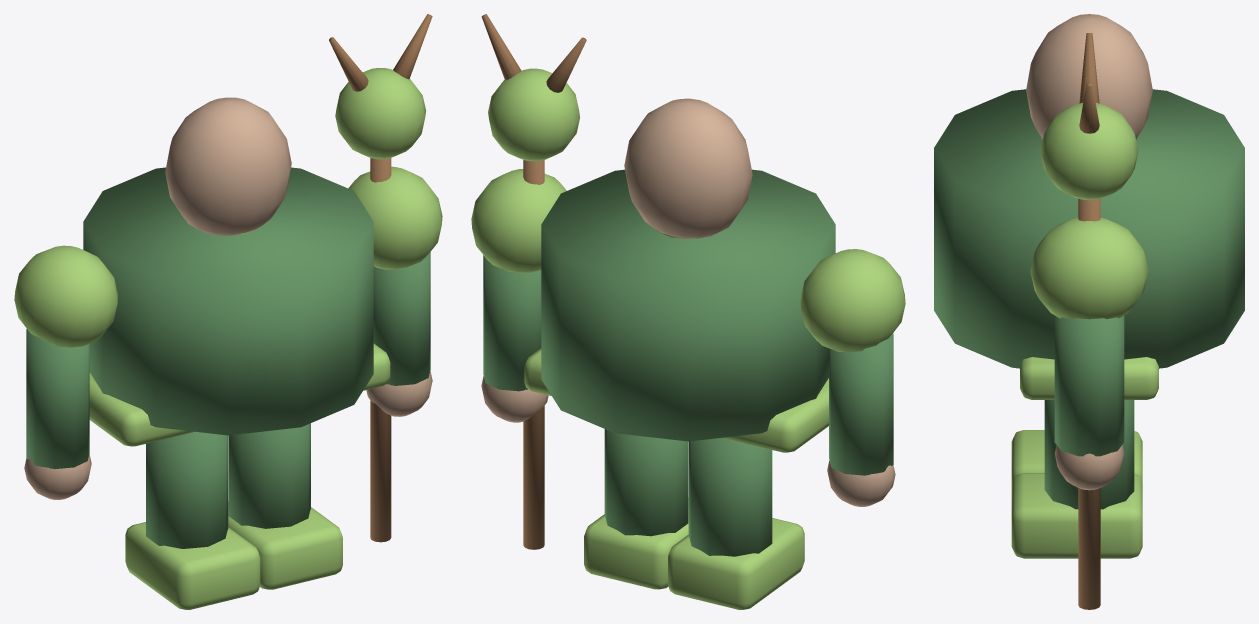
The model's file is Druid_Placeholder.glb.
The picture shows the model from 3 angles, left to right: view 1: azimuth 30°, elevation 25°; view 2: azimuth 150°, elevation 25°; view 3: azimuth 270°, elevation 25°; orthographic projection. The views are drawn at different scales.
Parts seen in each view (by area): view 1: Druid_Placeholder_Export; view 2: Druid_Placeholder_Export; view 3: Druid_Placeholder_Export.
Boxes of the visible parts, <box> form: Druid_Placeholder_Export: <box>14,14,442,609</box>; Druid_Placeholder_Export: <box>471,14,905,609</box>; Druid_Placeholder_Export: <box>934,14,1244,609</box>.
Bounding box in the file's own units: 150 × 177 × 91.2.
